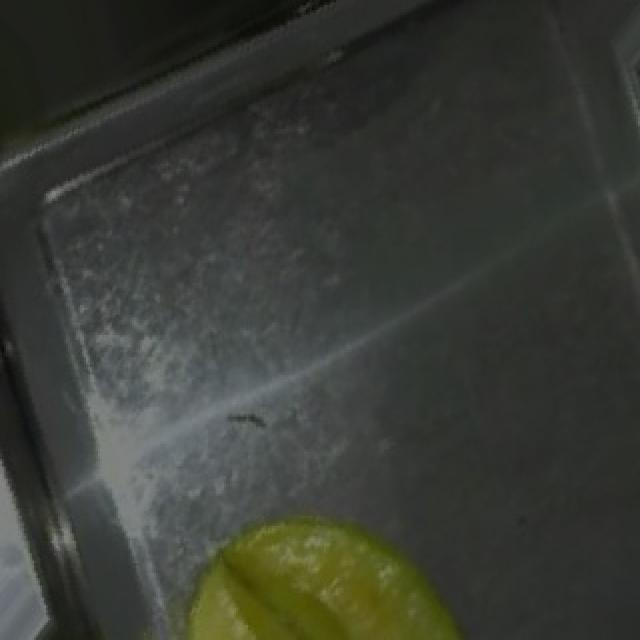fruit: (150, 464, 508, 640)
